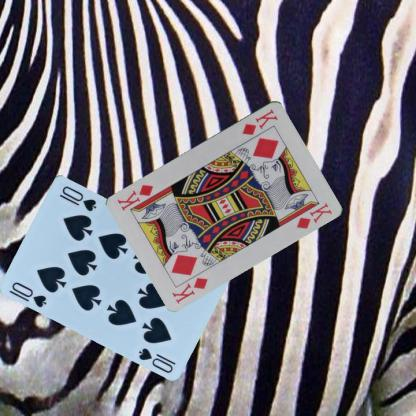10s: (9, 279, 49, 309)
Kd: (169, 275, 209, 305), (239, 107, 280, 136)
